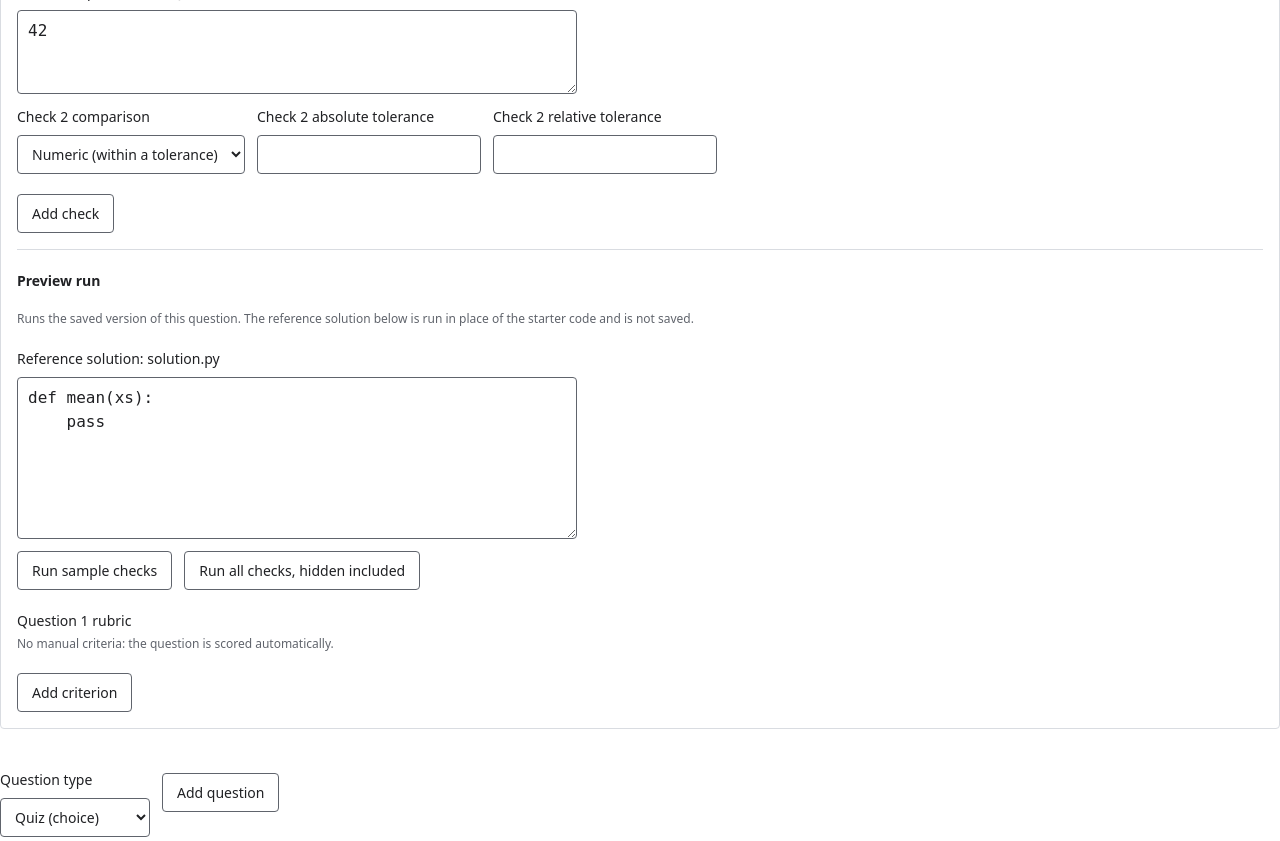
test editor › gives a new rubric criterion an unused id
(page scrolled)
Click the button "Add criterion": {"x": 75, "y": 692} [17, 673, 132, 712]
(page scrolled)
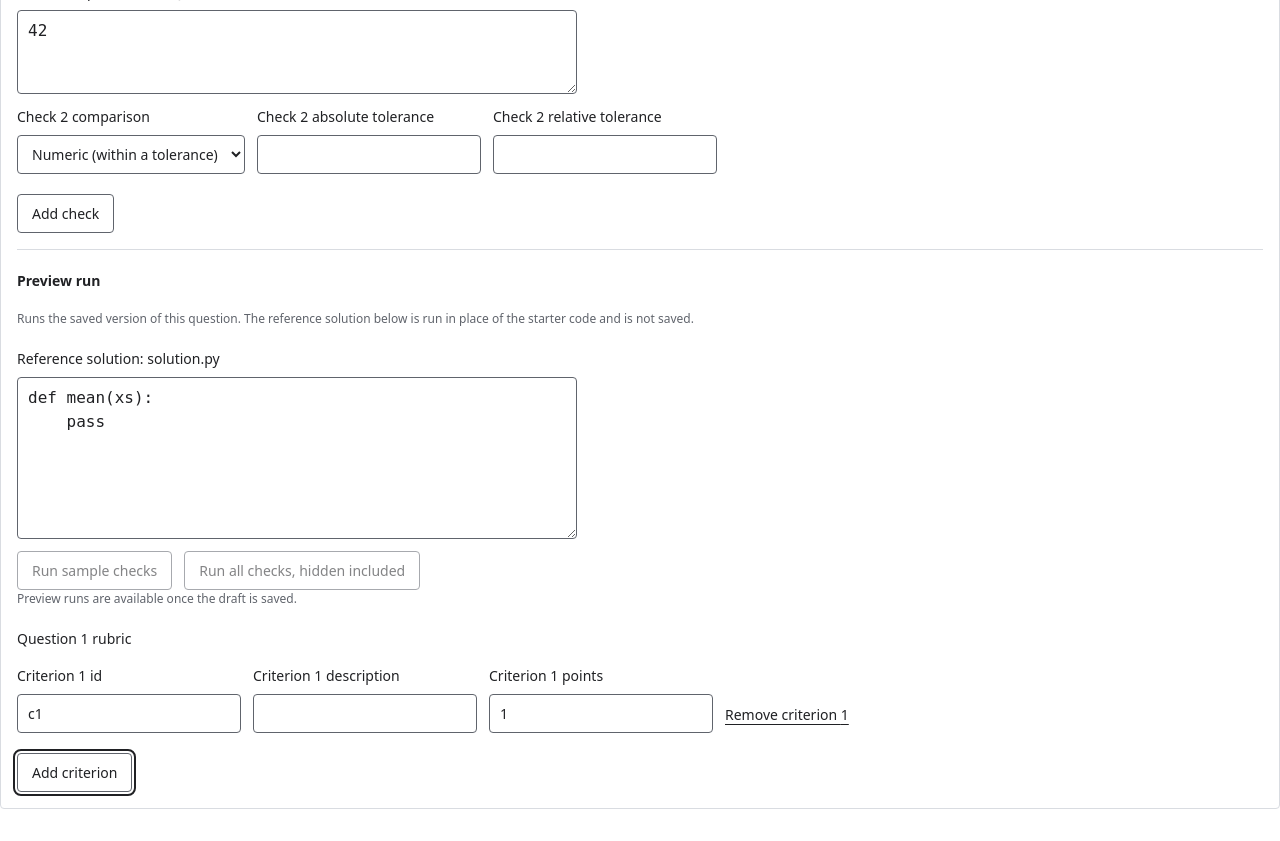
Click the button "Add criterion": {"x": 75, "y": 772} [17, 753, 132, 792]
(page scrolled)
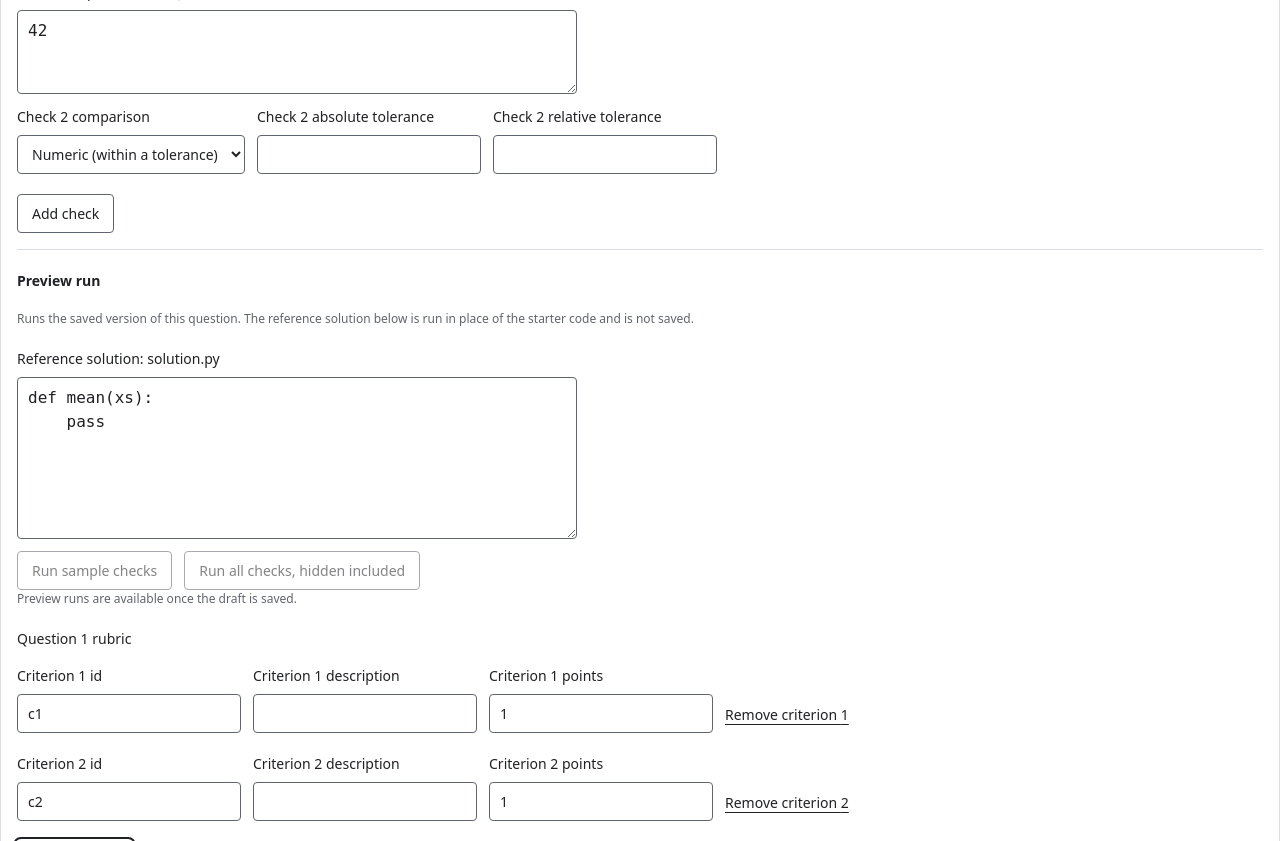
Click the button "Remove criterion 1": {"x": 787, "y": 715} [725, 697, 849, 733]
(page scrolled)
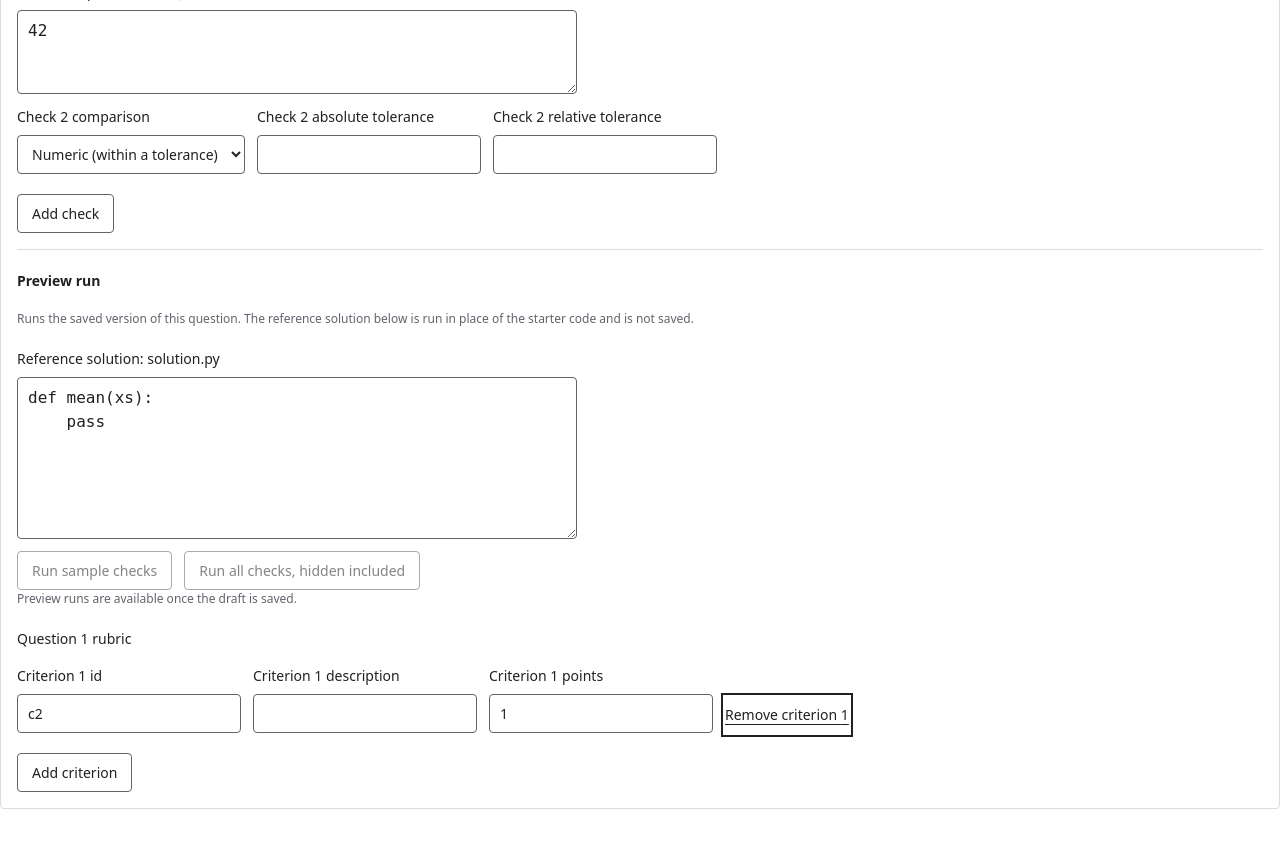
Click the button "Add criterion": {"x": 75, "y": 772} [17, 753, 132, 792]
(page scrolled)
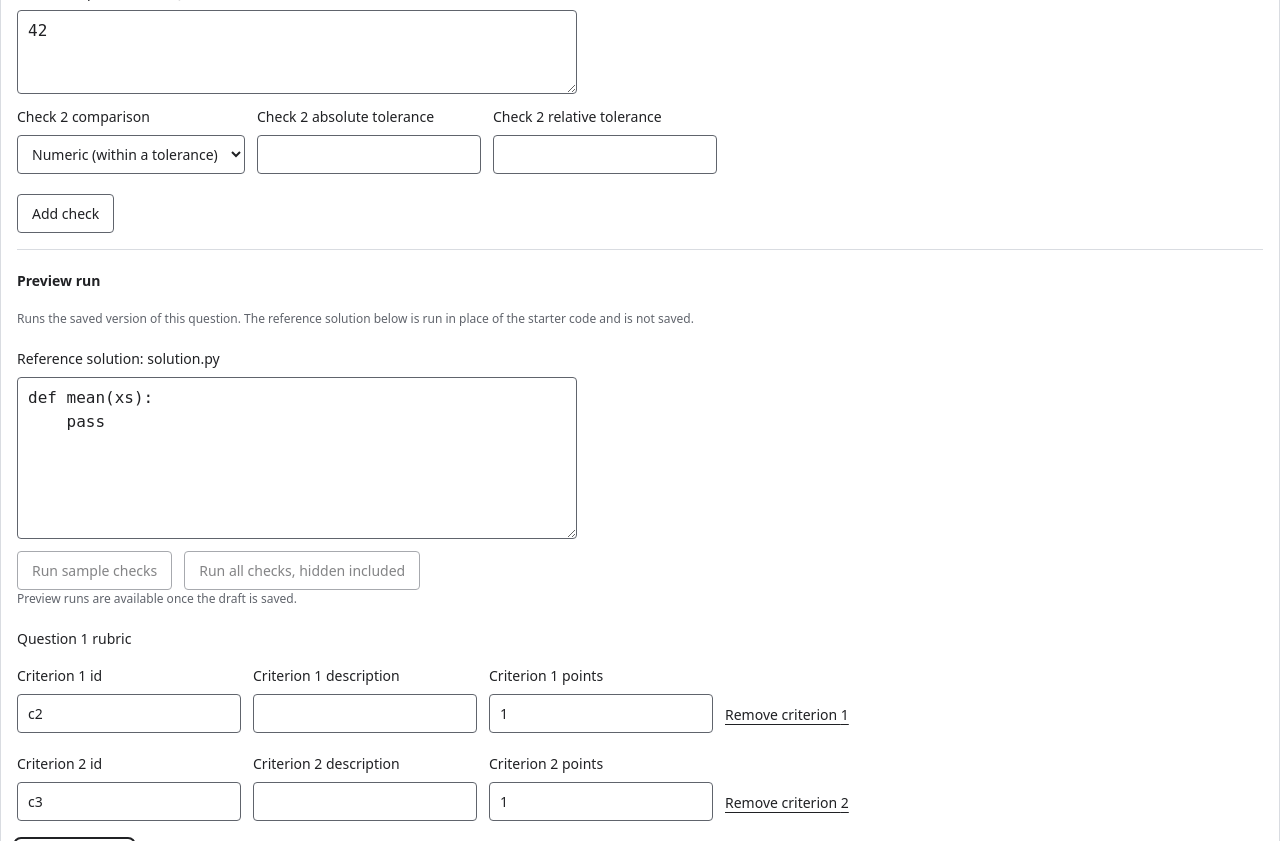
Now the field labelled "Criterion 1 id" holds "c2", box [17, 694, 241, 733]
Now the field labelled "Criterion 2 id" holds "c3", box [17, 782, 241, 821]
